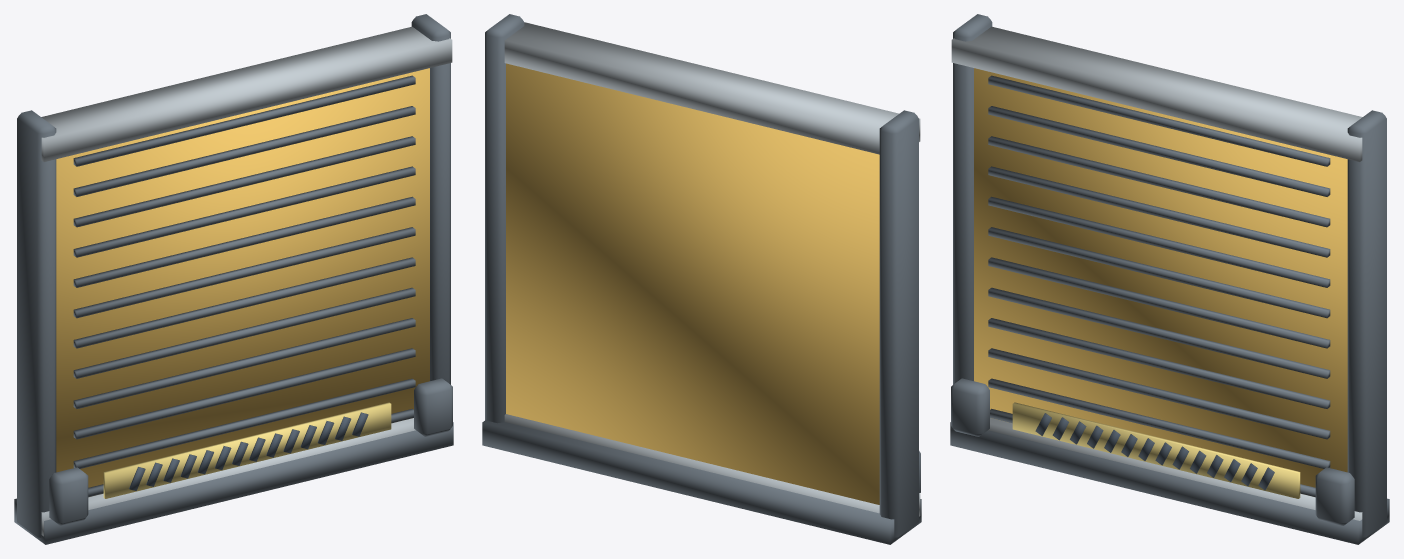
File: warehouse_door_standard.glb
3 views of the same model, side by side, from view 1: azimuth 30°, elevation 25°; view 2: azimuth 150°, elevation 25°; view 3: azimuth 330°, elevation 25° (orthographic).
Visible parts, largest first — view 1: Wall_orange, DoorSlats_dark, Frame_dark, Frame_steel, Base_dark, Detail_yellow, Footing_dark, Detail_black; view 2: Wall_orange, Frame_dark, Frame_steel, Base_dark; view 3: Wall_orange, DoorSlats_dark, Frame_dark, Frame_steel, Base_dark, Detail_yellow, Footing_dark, Detail_black.
Boxes of the visible parts, bbox=[...] form: Wall_orange: bbox=[56, 68, 429, 487]; DoorSlats_dark: bbox=[73, 75, 415, 497]; Frame_dark: bbox=[17, 14, 450, 538]; Frame_steel: bbox=[41, 26, 452, 536]; Base_dark: bbox=[14, 422, 453, 544]; Detail_yellow: bbox=[103, 402, 391, 498]; Footing_dark: bbox=[49, 378, 452, 525]; Detail_black: bbox=[129, 412, 368, 490]; Wall_orange: bbox=[506, 63, 879, 504]; Frame_dark: bbox=[485, 14, 918, 538]; Frame_steel: bbox=[504, 22, 920, 516]; Base_dark: bbox=[482, 420, 921, 544]; Wall_orange: bbox=[974, 68, 1347, 487]; DoorSlats_dark: bbox=[988, 75, 1330, 497]; Frame_dark: bbox=[953, 14, 1386, 538]; Frame_steel: bbox=[951, 26, 1362, 520]; Base_dark: bbox=[950, 422, 1389, 544]; Detail_yellow: bbox=[1012, 402, 1300, 498]; Footing_dark: bbox=[951, 378, 1354, 525]; Detail_black: bbox=[1035, 413, 1274, 490].
Size of the model in its own units: 3.04 by 2.9 by 0.495.
